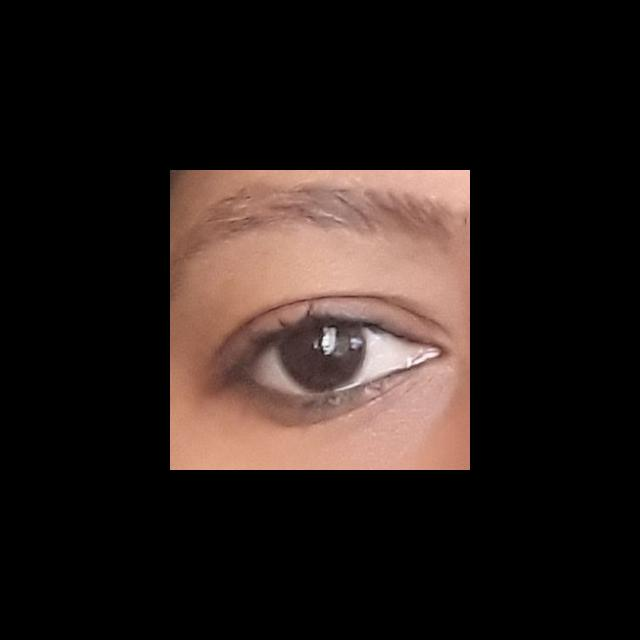eye: (245, 318, 425, 397)
iris: (278, 322, 368, 390)
